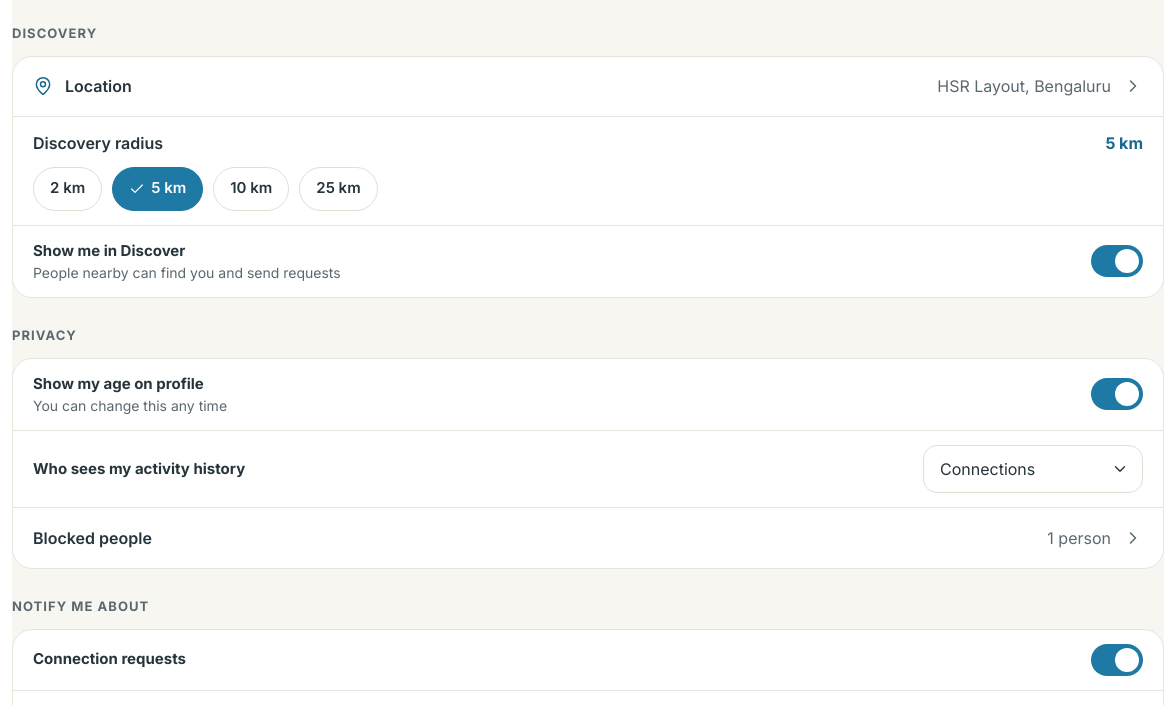
S22 settings form › saves each change immediately with the right key and value
Later steps or results of the test are not shown.
Click the button "25 km" at (338, 188), box [299, 166, 378, 210]
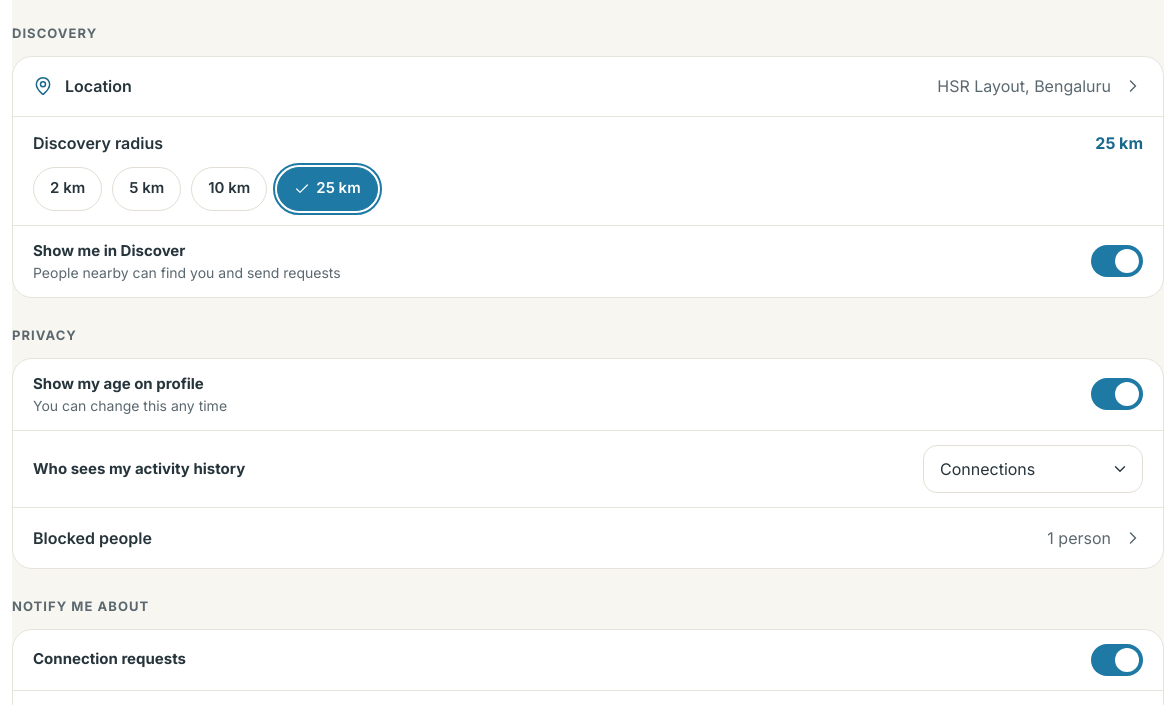
Click the switch named "Show me in Discover" in the row of "Show me in Discover" at (1117, 261), box [1091, 245, 1143, 277]
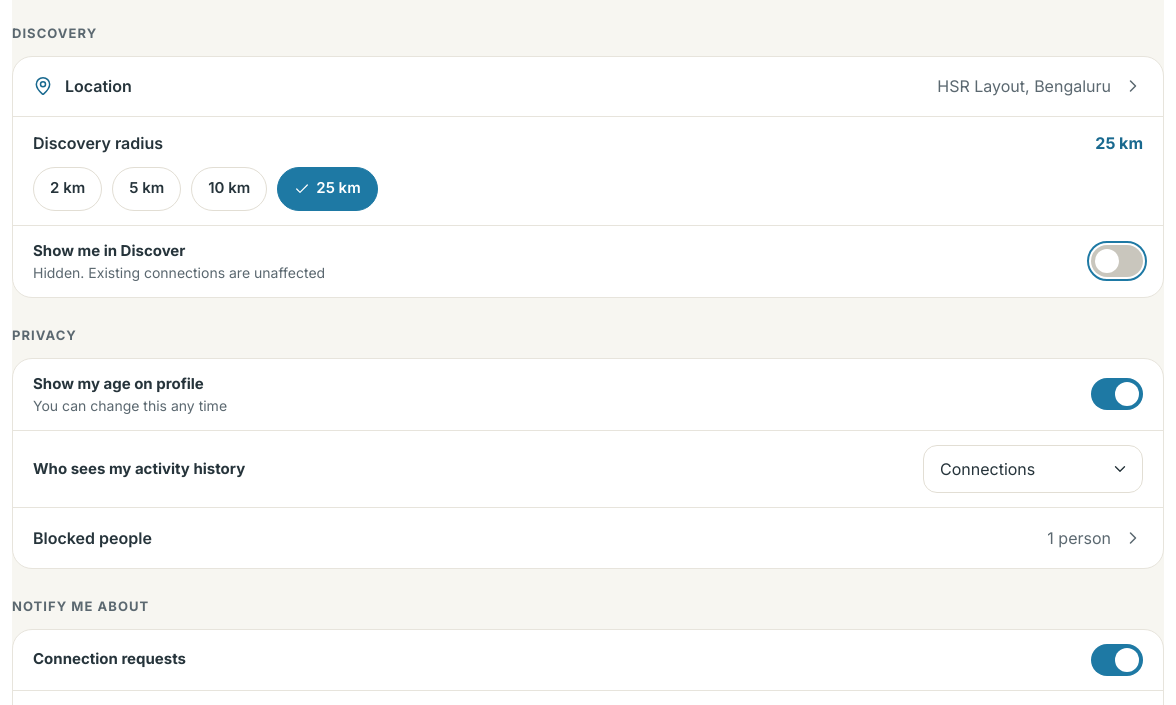
Check: the text "Hidden. Existing connections are unaffected" is shown, box [33, 264, 325, 281]
